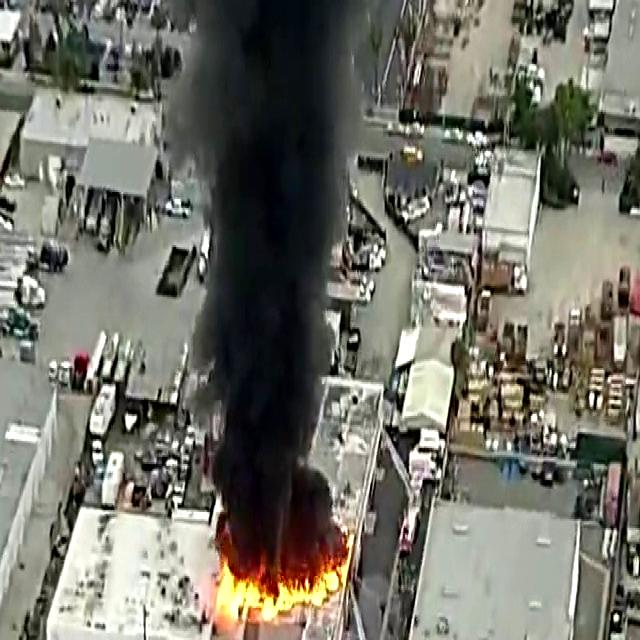fire: (219, 564, 327, 619)
smoke: (217, 0, 299, 542)
